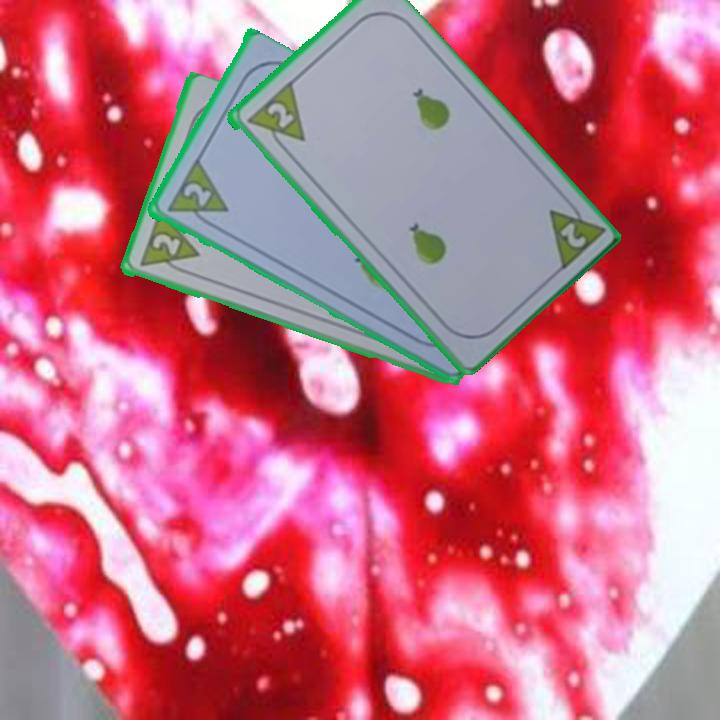2p: (263, 98, 297, 132), (178, 179, 214, 211), (556, 218, 589, 251), (148, 230, 183, 259)
